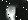person: (7, 6, 19, 20)
